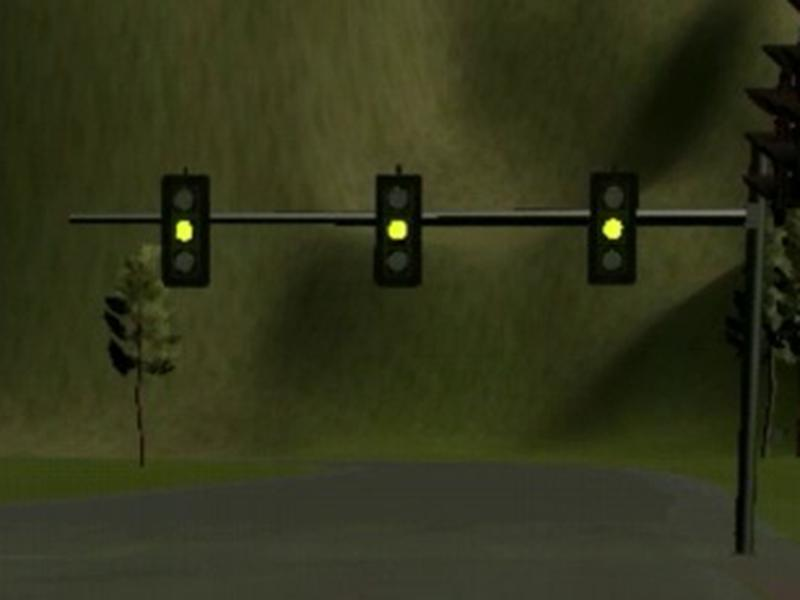Yellow: (161, 174, 210, 288), (589, 172, 638, 284), (375, 174, 422, 287)
